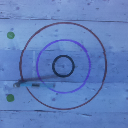Axe Tip: (17, 80, 27, 82)
